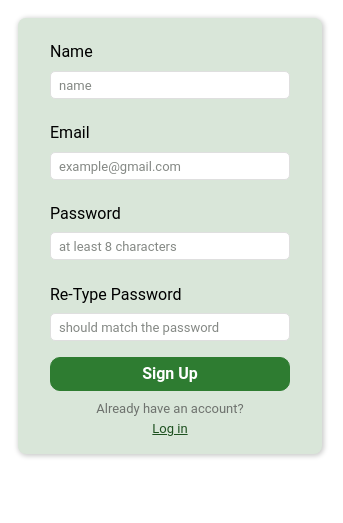
Test: Loading Sign Up Form › Name Is Invalid
Click the button at x=170, y=374, box x1=50 y1=357 x2=290 y2=391
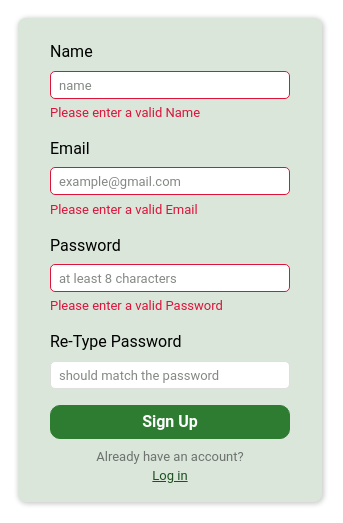
Expected: the text "Please enter a valid Name" is shown, x1=50 y1=105 x2=200 y2=120
